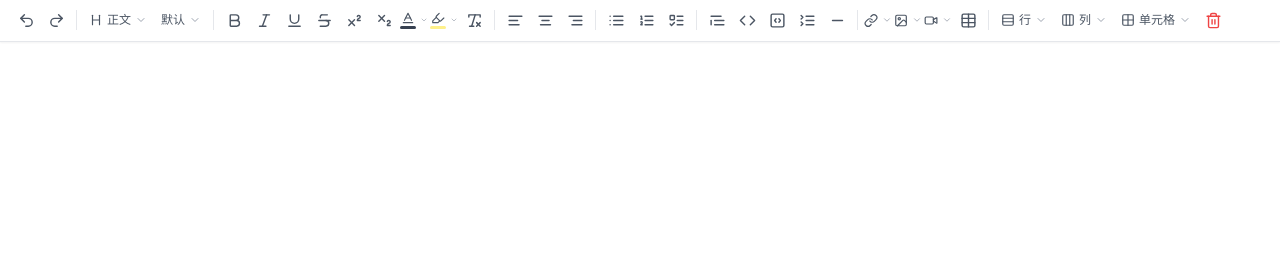
Test: the table controls › spell out every column operation in words
Step 1. Click the button named "列操作" → (1084, 20), box left=1055, top=6, right=1113, bottom=34
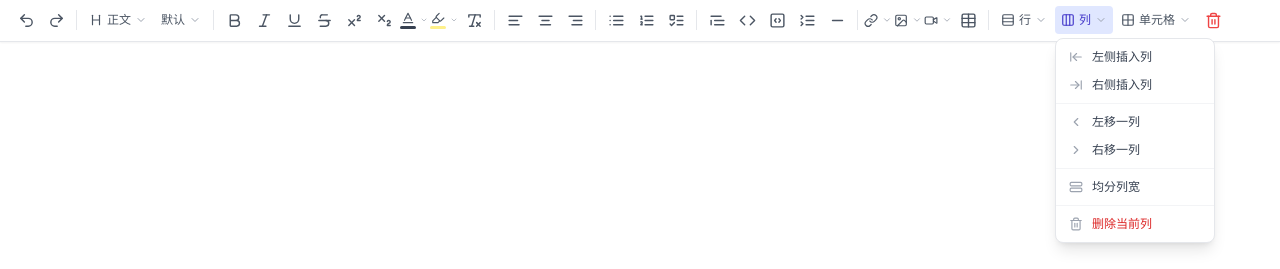
Expected: the menu item "左侧插入列" is shown, left=1056, top=43, right=1214, bottom=71
Expected: the menu item "右侧插入列" is shown, left=1056, top=71, right=1214, bottom=99
Expected: the menu item "左移一列" is shown, left=1056, top=108, right=1214, bottom=136
